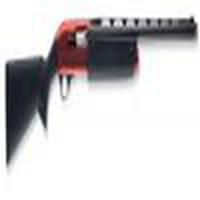gun: (4, 14, 200, 168)
